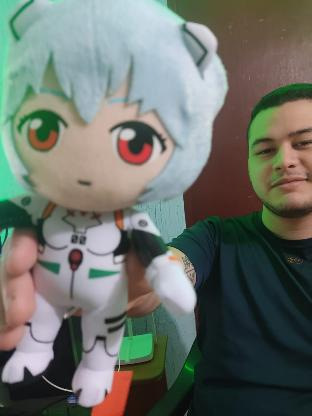rei-plush: (0, 0, 228, 414)
